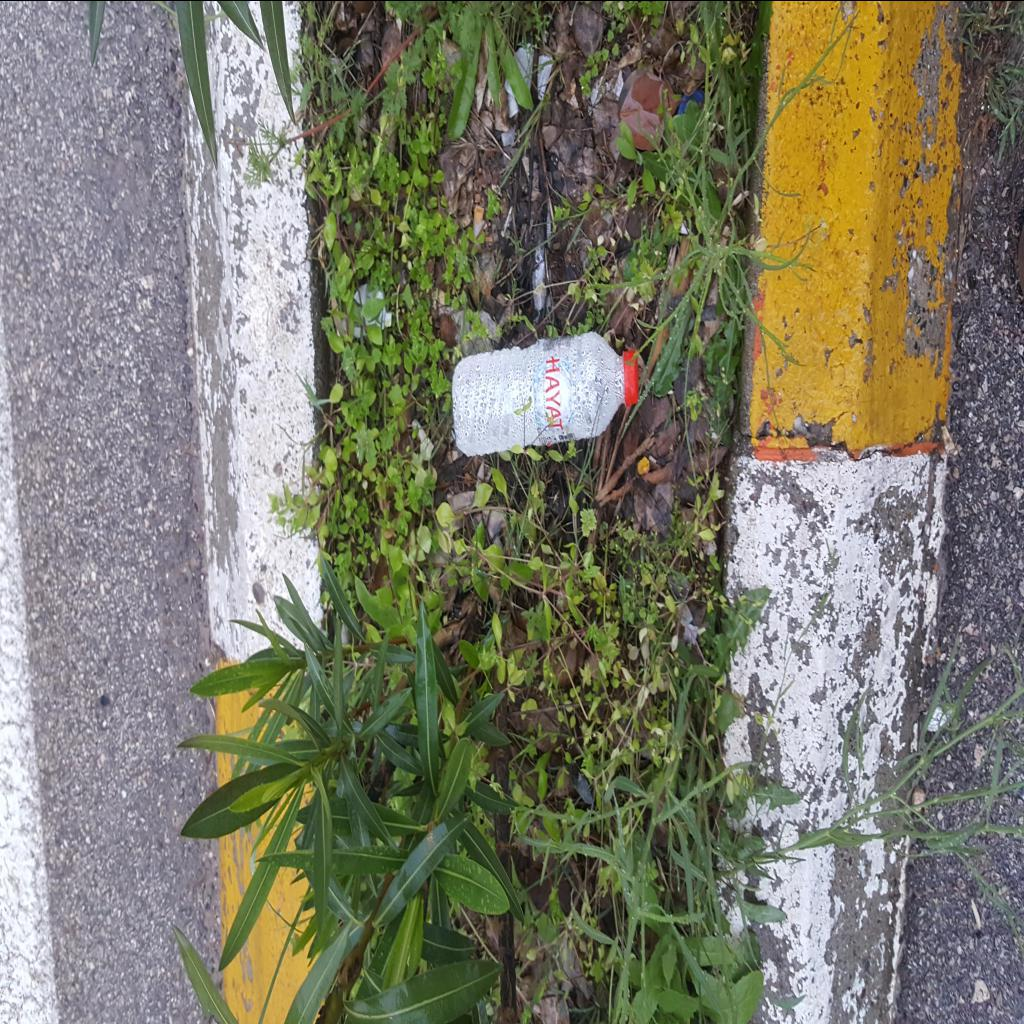Clear plastic bottle: (452, 329, 638, 455)
Other plastic wrapper: (676, 91, 706, 115)
Plastic bottle cap: (626, 348, 638, 406)
Plastic film: (532, 200, 550, 308)
Unlabeled litter: (337, 285, 385, 335), (514, 48, 554, 102), (505, 78, 519, 116), (474, 204, 484, 236)
